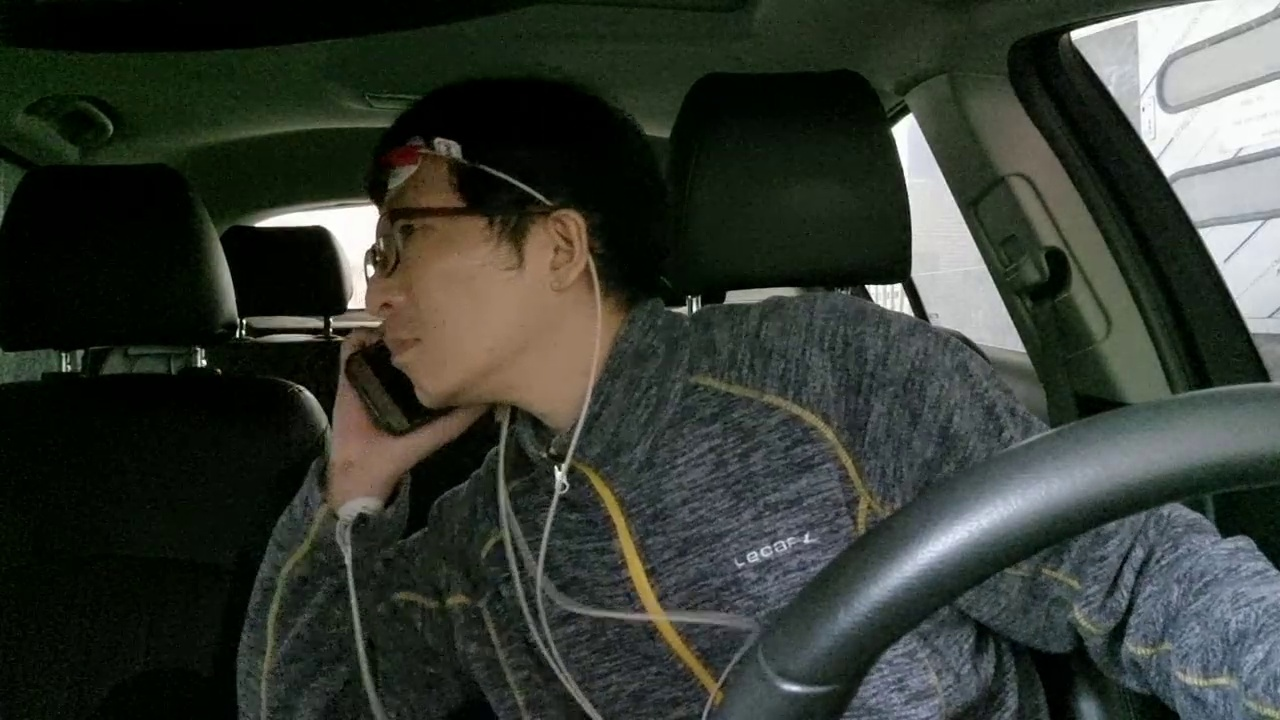phone: (317, 306, 486, 473)
